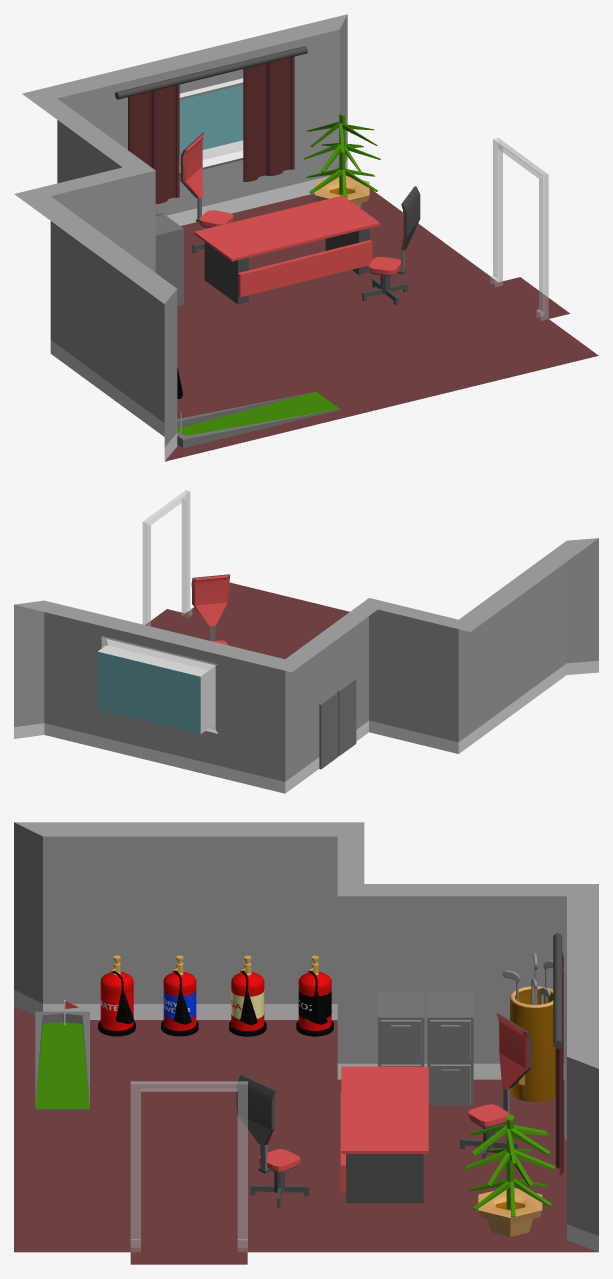
The model's file is Office.fbx.
3 views of the same model, one above another, from view 1: azimuth 30°, elevation 25°; view 2: azimuth 150°, elevation 25°; view 3: azimuth 270°, elevation 25° (orthographic). The views are drawn at different scales.
Parts seen in each view (by area): view 1: OfficeFloorWall, polySurface67, Curtain2, Curtain1, GolfGreen, OfficeDoorFrame, PottedPlant, polySurface68, prp_Filecab:prpFilecab, polySurface66, CurtainRod; view 2: OfficeFloorWall, OfficeDoorFrame, polySurface68, prpFilecab, prp_Filecab:prpFilecab; view 3: OfficeFloorWall, polySurface67, GolfGreen, PottedPlant, prpFilecab, OfficeDoorFrame, GolfClubs, polySurface68, prp_Filecab:prpFilecab, polySurface66, pickup_extinguisherFoam:Mesh, pickup_extinguisherDryPowder:Mesh (+4 smaller).
Boxes of the visible parts, bbox=[...] form: OfficeFloorWall: bbox=[14, 14, 598, 461]; polySurface67: bbox=[194, 195, 380, 304]; Curtain2: bbox=[243, 56, 294, 181]; Curtain1: bbox=[128, 84, 179, 203]; GolfGreen: bbox=[177, 392, 339, 448]; OfficeDoorFrame: bbox=[490, 138, 548, 320]; PottedPlant: bbox=[304, 114, 380, 207]; polySurface68: bbox=[362, 186, 420, 305]; prp_Filecab:prpFilecab: bbox=[155, 214, 183, 305]; polySurface66: bbox=[180, 132, 233, 253]; CurtainRod: bbox=[115, 46, 307, 99]; OfficeFloorWall: bbox=[14, 538, 598, 793]; OfficeDoorFrame: bbox=[142, 490, 192, 626]; polySurface68: bbox=[191, 574, 230, 645]; prpFilecab: bbox=[319, 692, 338, 769]; prp_Filecab:prpFilecab: bbox=[337, 678, 356, 755]; OfficeFloorWall: bbox=[14, 822, 598, 1264]; polySurface67: bbox=[340, 1066, 428, 1203]; GolfGreen: bbox=[35, 1000, 89, 1110]; PottedPlant: bbox=[465, 1114, 554, 1236]; prpFilecab: bbox=[427, 991, 473, 1105]; OfficeDoorFrame: bbox=[130, 1081, 247, 1252]; GolfClubs: bbox=[502, 952, 555, 1101]; polySurface68: bbox=[236, 1074, 308, 1207]; prp_Filecab:prpFilecab: bbox=[378, 991, 424, 1066]; polySurface66: bbox=[459, 1013, 531, 1159]; pickup_extinguisherFoam:Mesh: bbox=[229, 955, 266, 1036]; pickup_extinguisherDryPowder:Mesh: bbox=[161, 955, 198, 1036].
Bounding box in the file's own units: 21 × 6.96 × 20.04.
